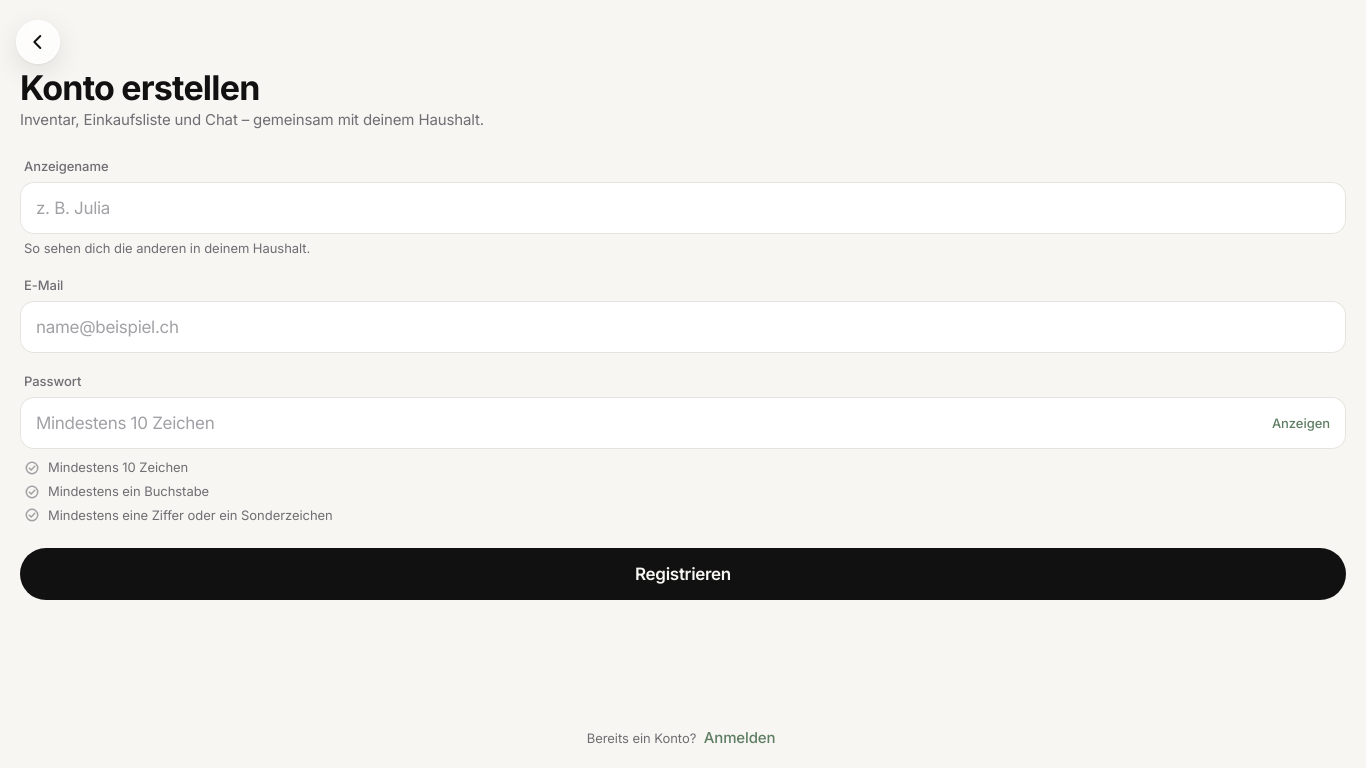
Scenario: RegisterForm › maps server-side validation details onto the fields
The image size is (1366, 768).
Type "Lena" into the field labelled "Anzeigename" at (683, 208), box [36,182,1330,234]
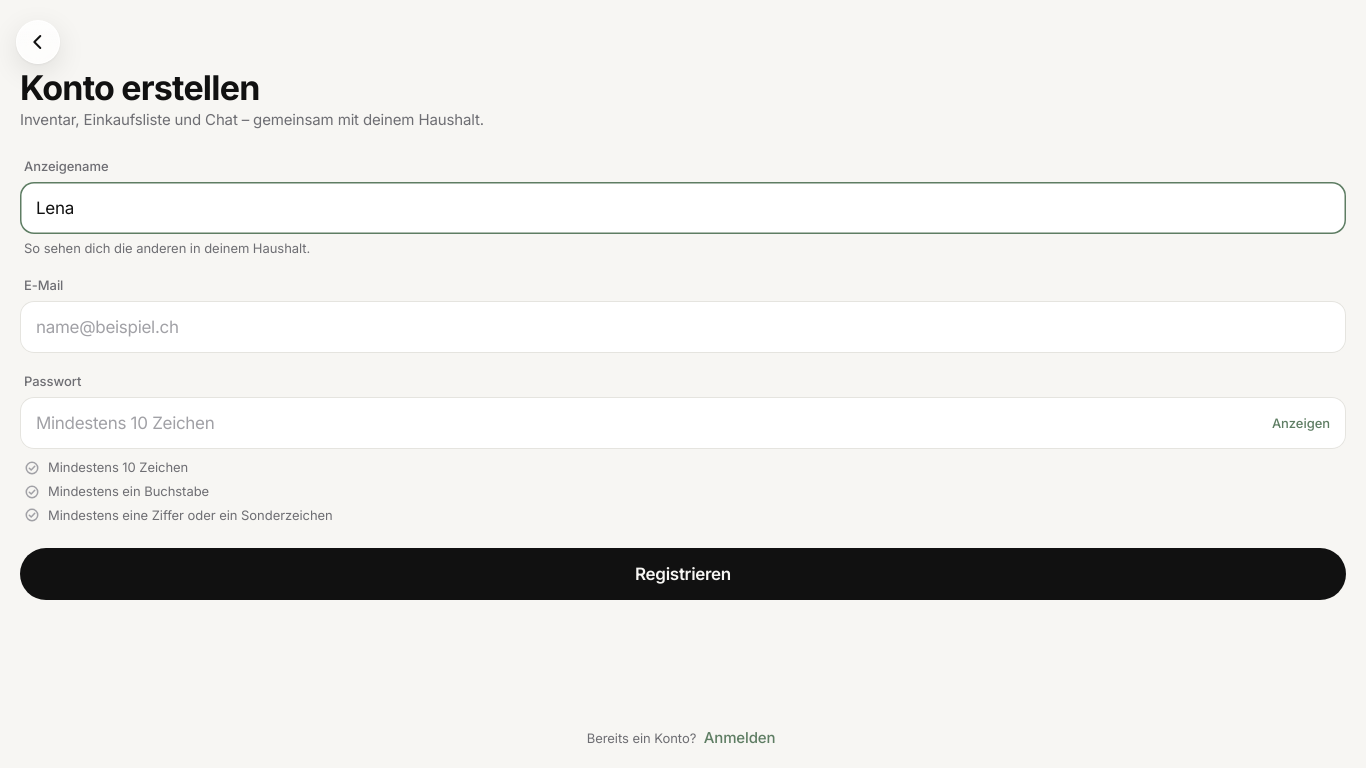
Type "lena@example.ch" into the field labelled "E-Mail" at (683, 328), box [36,302,1330,354]
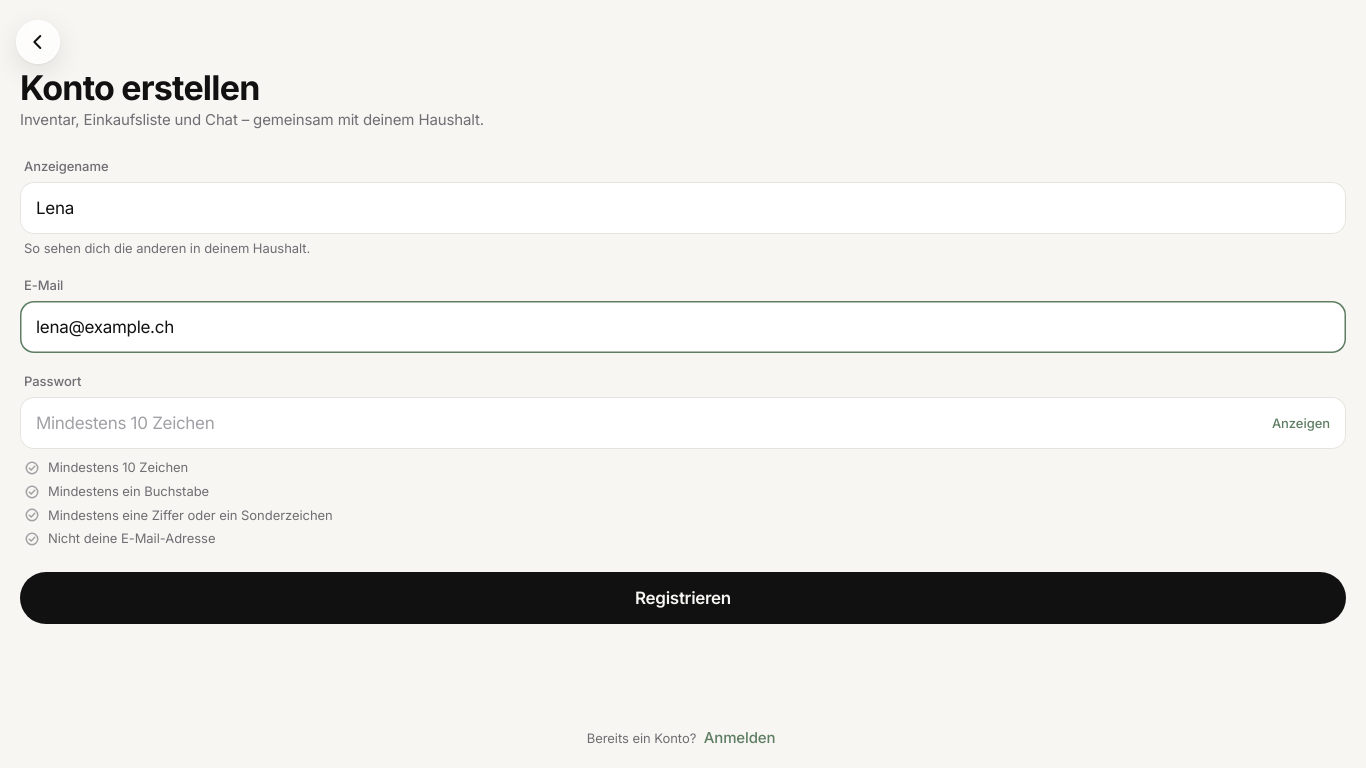
Type "Sommer-Wiese-7" into the password field labelled "Passwort" at (648, 424), box [36,398,1260,450]
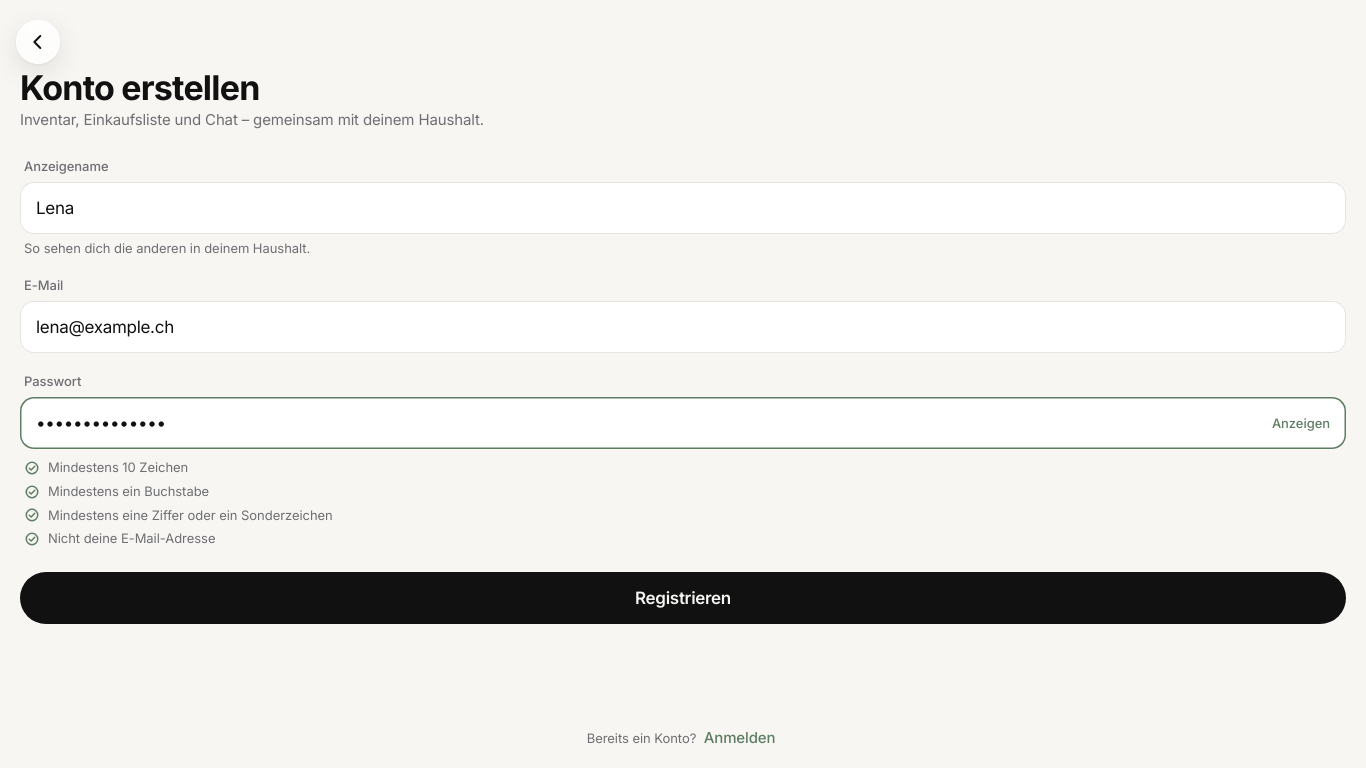
Click the button "Registrieren" at (683, 598), box [20,572,1346,624]
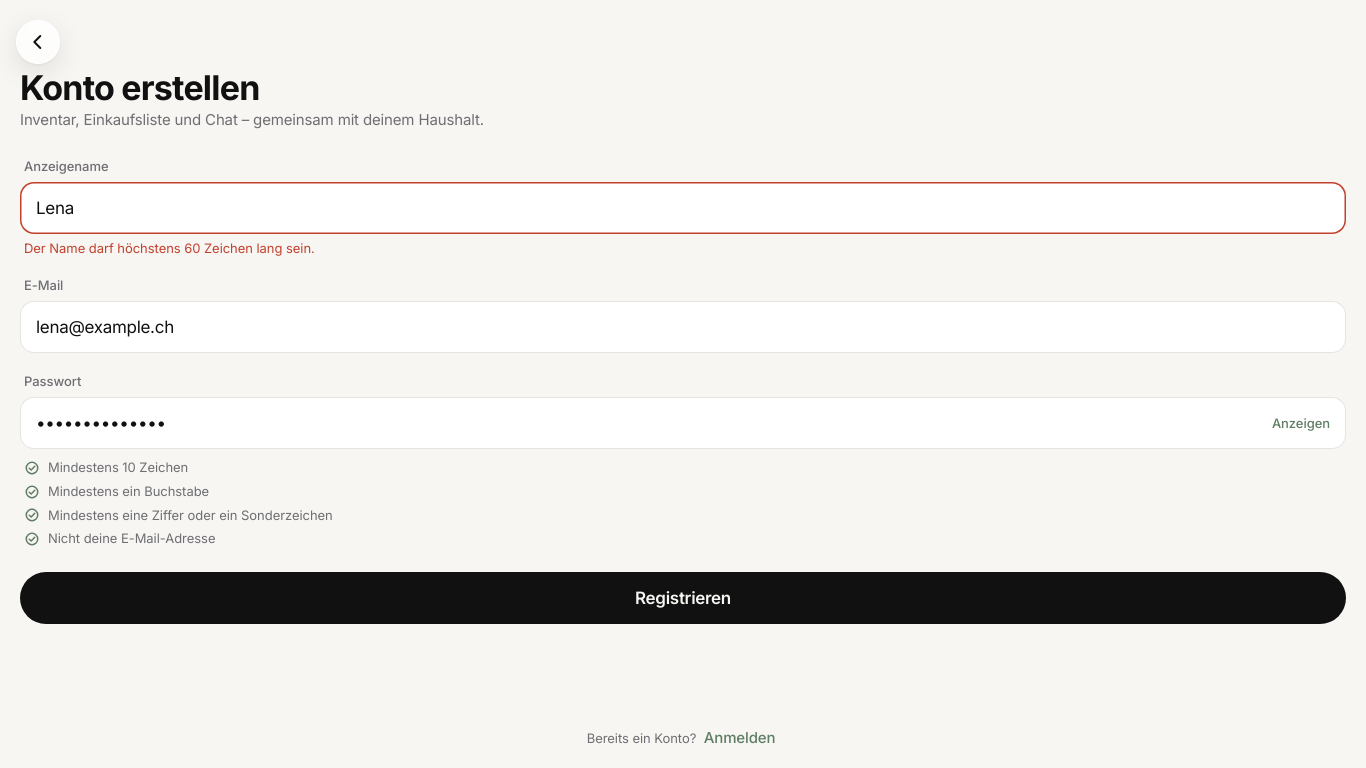
Expected: the text "Der Name darf höchstens 60 Zeichen lang sein." is shown, [24,240,315,256]
